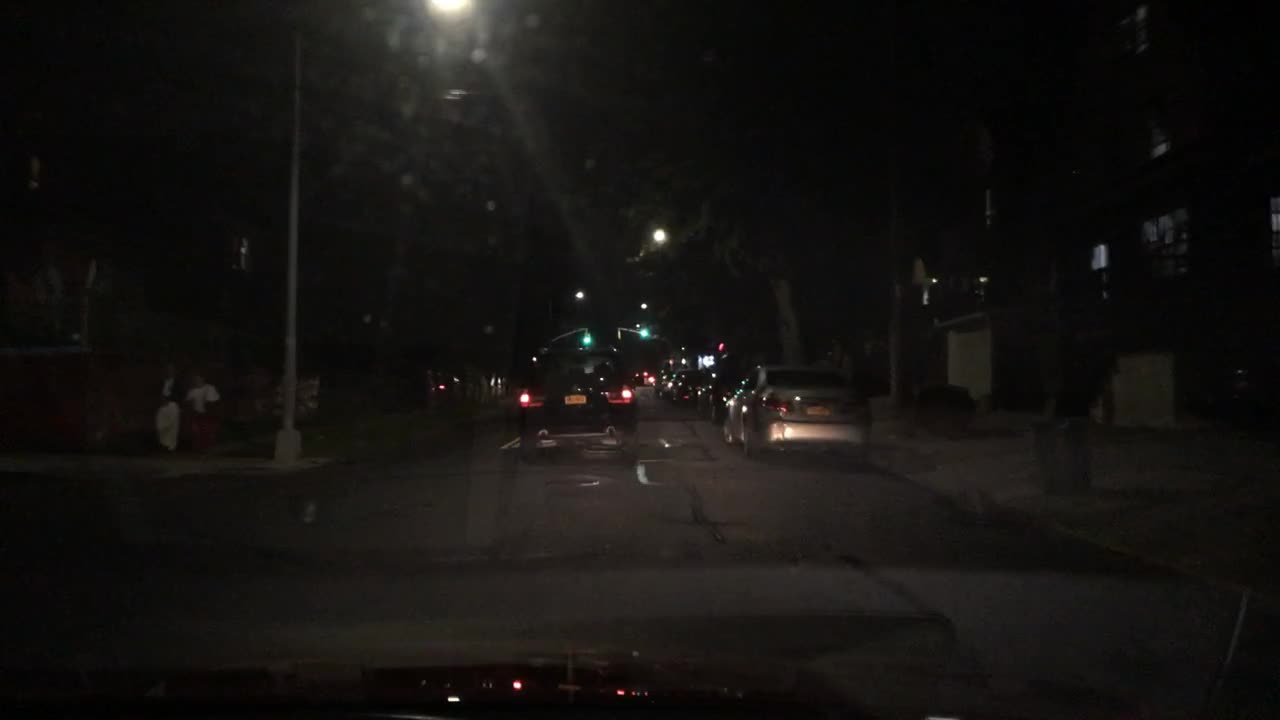car: (718, 360, 876, 461), (510, 346, 643, 463), (690, 362, 756, 421), (665, 367, 707, 399), (653, 369, 676, 400), (625, 370, 646, 388)
person: (152, 360, 190, 452), (180, 372, 222, 452)
traffic light: (635, 320, 649, 338), (577, 329, 591, 345)
